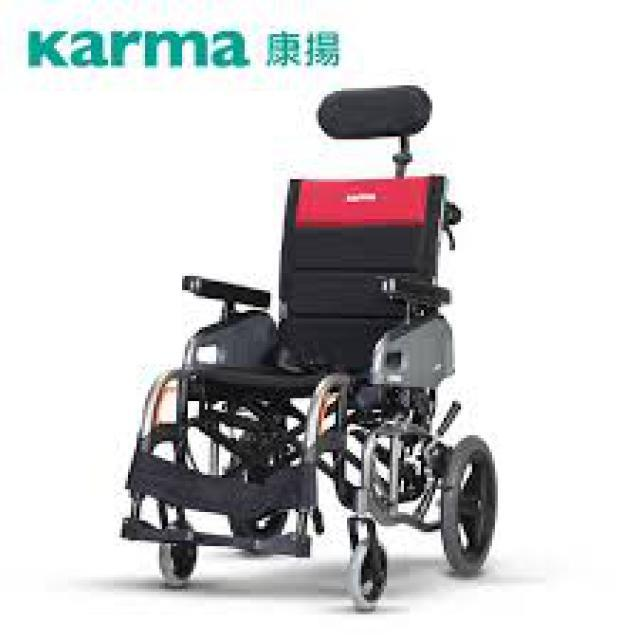wheelchair: (111, 82, 501, 618)
